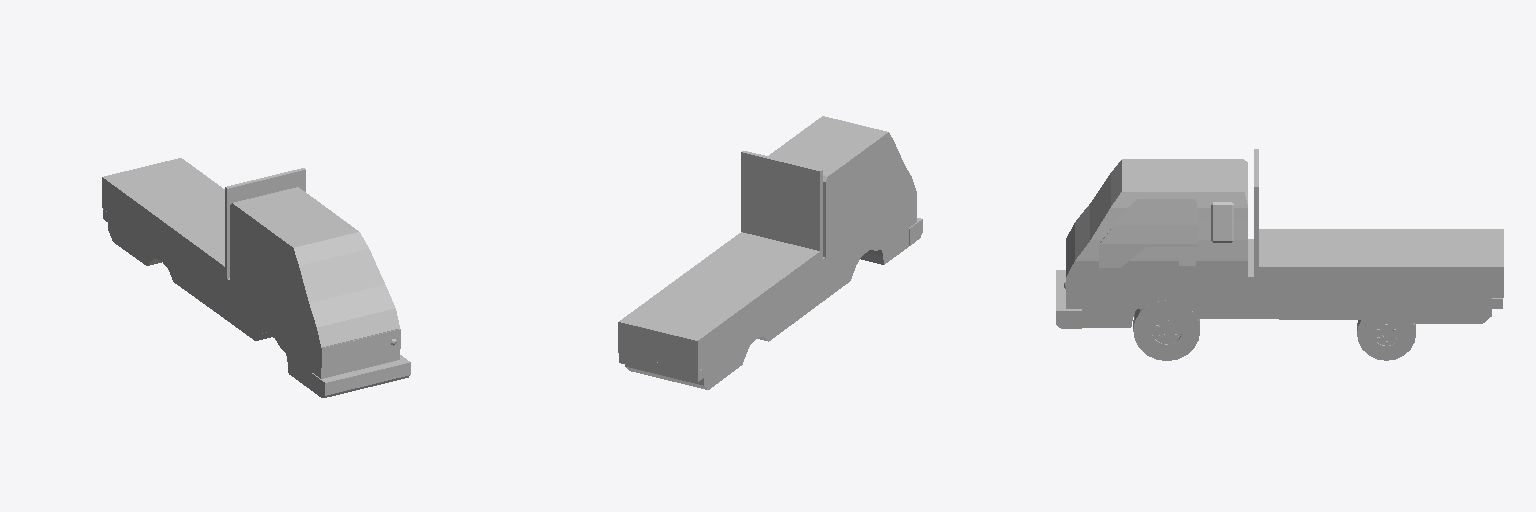
File: Caminhão.obj
3 renders of one model, left to right at view 1: azimuth 30°, elevation 25°; view 2: azimuth 150°, elevation 25°; view 3: azimuth 270°, elevation 25°, orthographic.
Parts seen in each view (by area): view 1: Caminhão_Cube; view 2: Caminhão_Cube; view 3: Caminhão_Cube.
Part boxes in pixels (bbox=[...]): Caminhão_Cube: bbox=[102, 158, 410, 397]; Caminhão_Cube: bbox=[618, 116, 922, 389]; Caminhão_Cube: bbox=[1056, 149, 1503, 360].
Bounding box in the file's own units: 0.6999 × 1.36 × 3.18.